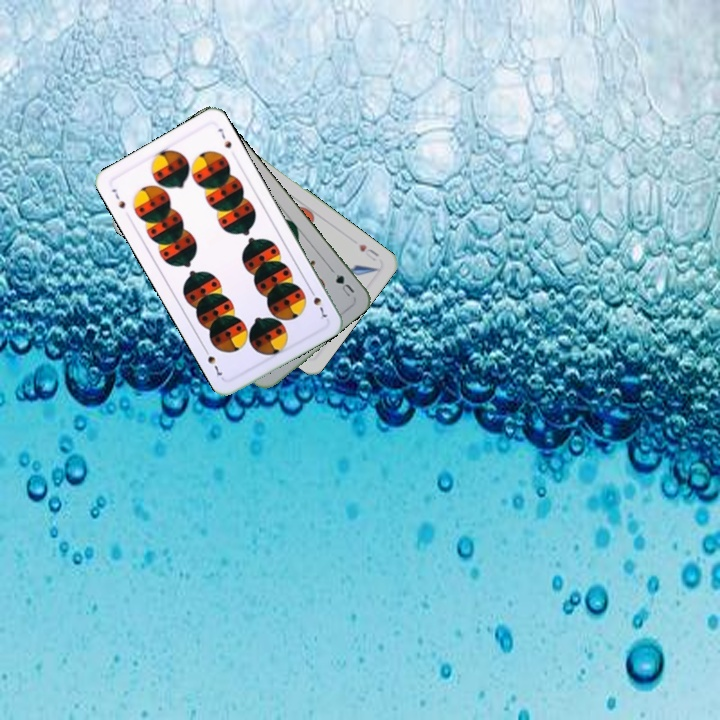GU: (327, 265, 357, 299)
HU: (355, 240, 381, 264)
S7: (305, 284, 329, 322), (107, 184, 128, 211)
